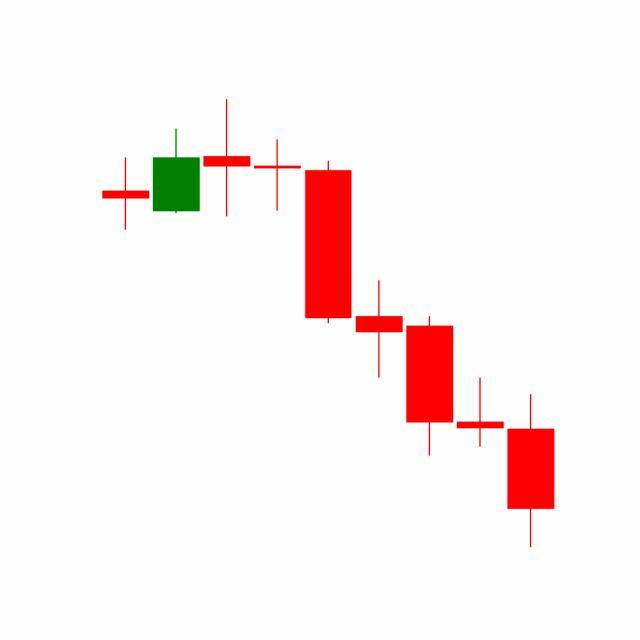Hikkake Pattern: (302, 156, 555, 548)
